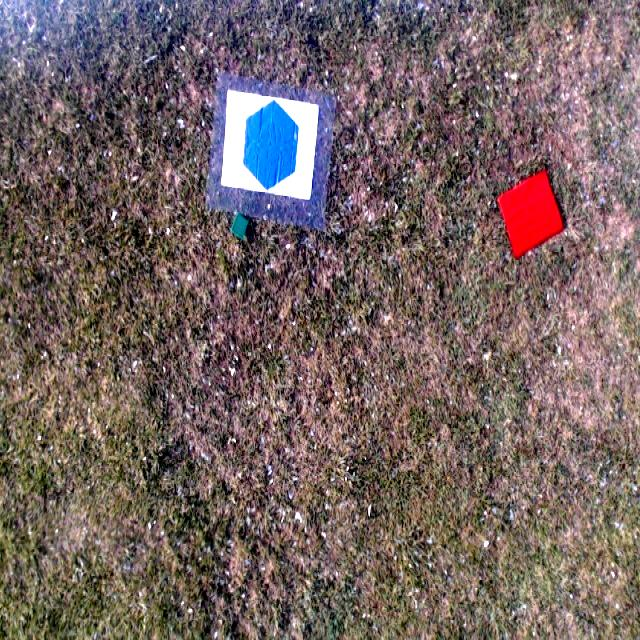blue_hexagon: (242, 99, 301, 191)
red_square: (497, 170, 564, 256)
